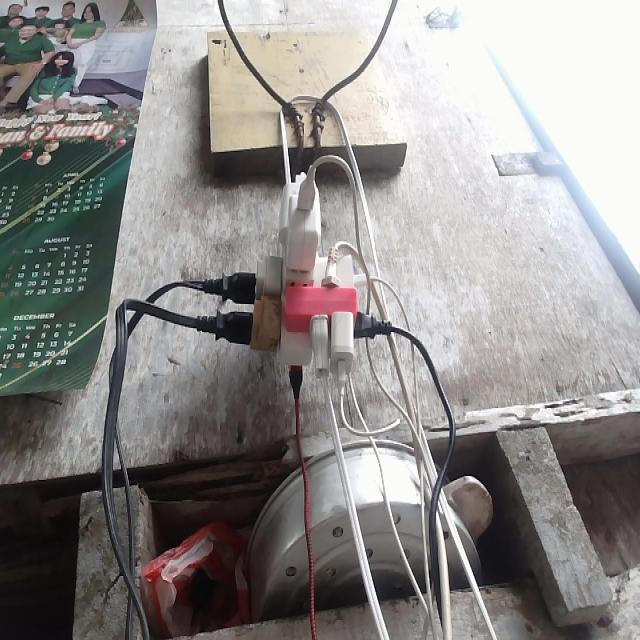-: (196, 154, 394, 398)
